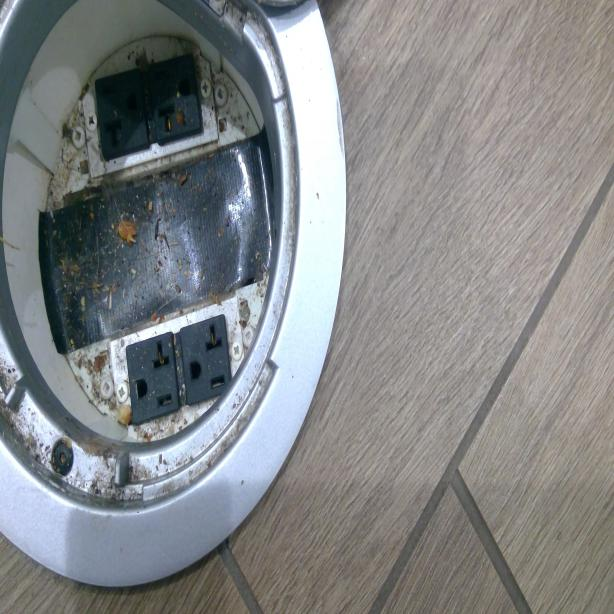typeb: (126, 338, 179, 420), (146, 63, 197, 132), (97, 74, 143, 148), (181, 324, 228, 395)
